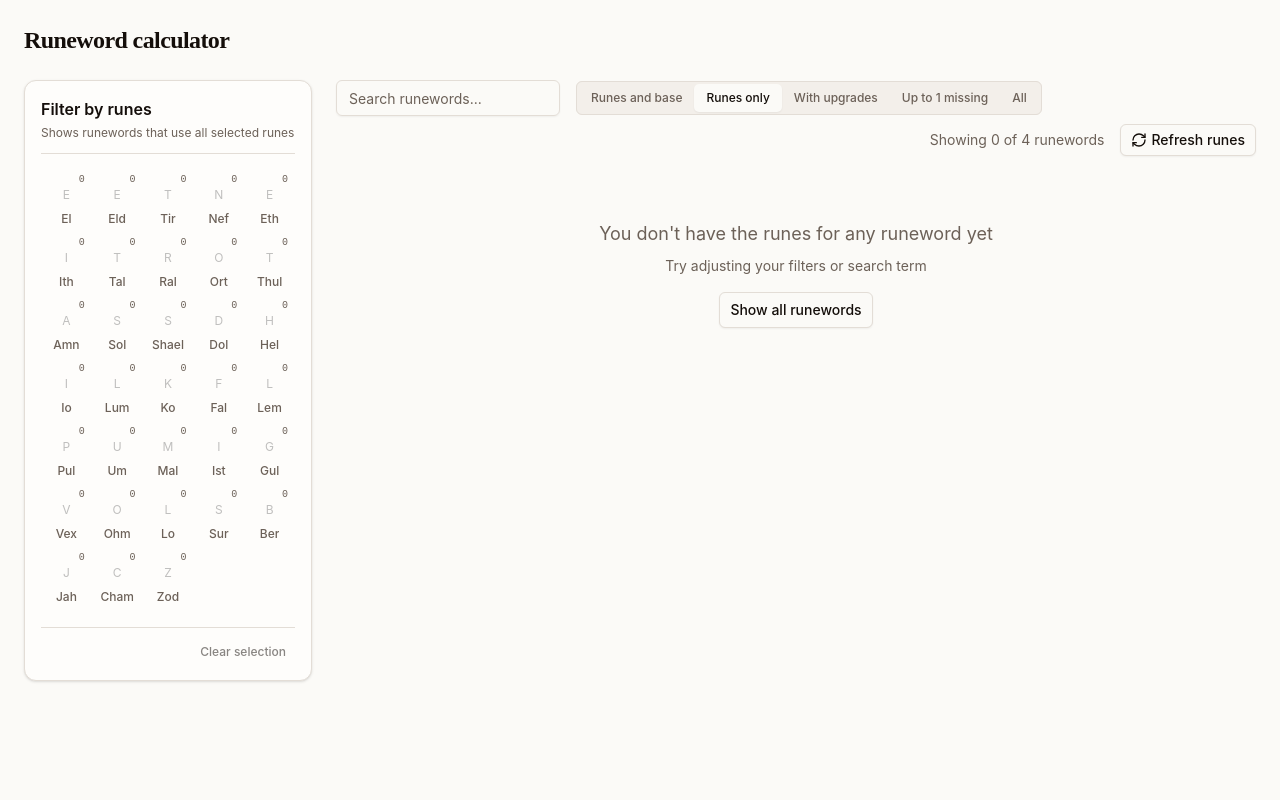
RunewordCalculator › availability filter › If nothing is craftable or missing at most 1 rune, then the empty state offers Show all and applies it
The width and height of the screenshot is (1280, 800).
Expected: the text "Showing 0 of 4 runewords" is shown, [930,130,1104,150]
Expected: the text "You don't have the runes for any runeword yet" is shown, [599,223,993,244]
Click the button "Show all runewords".
click(796, 310)  # box [719,292,873,328]
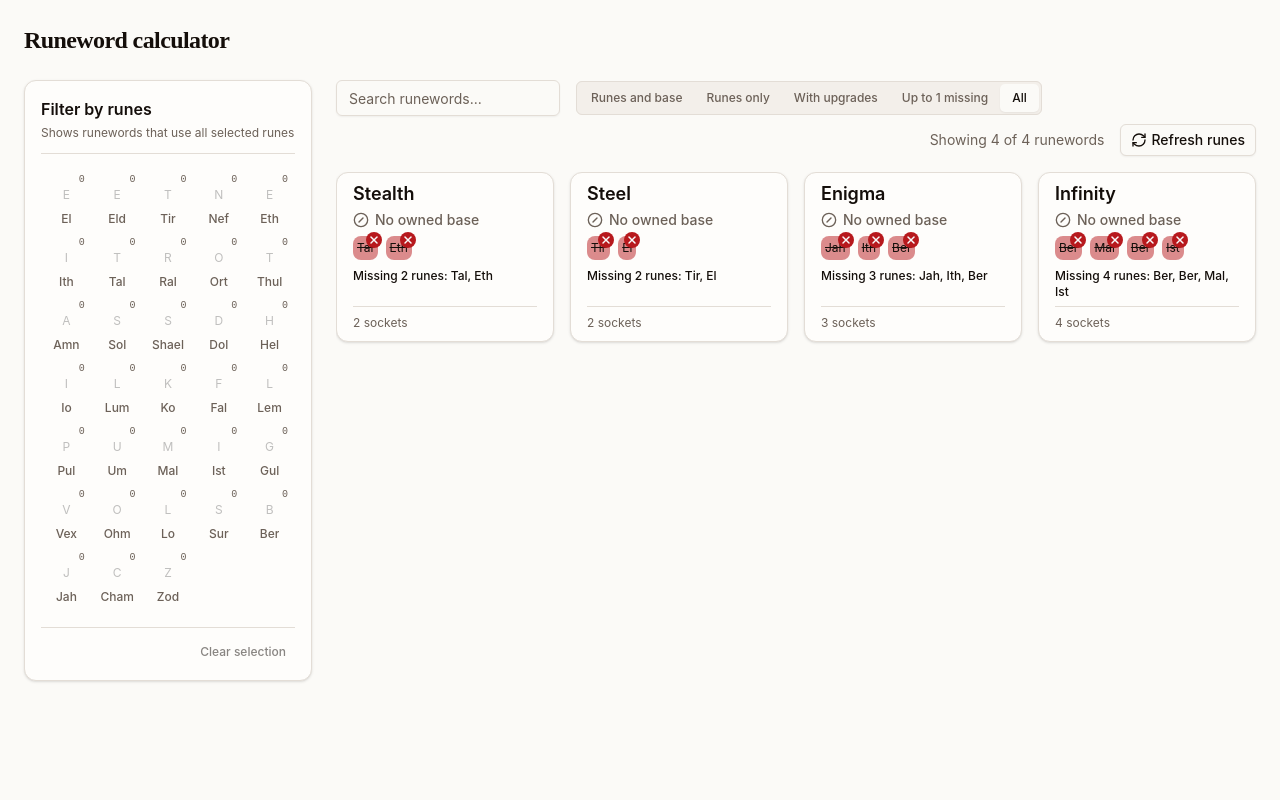
Now the text "Showing 4 of 4 runewords" is shown, box [930,130,1104,150]
